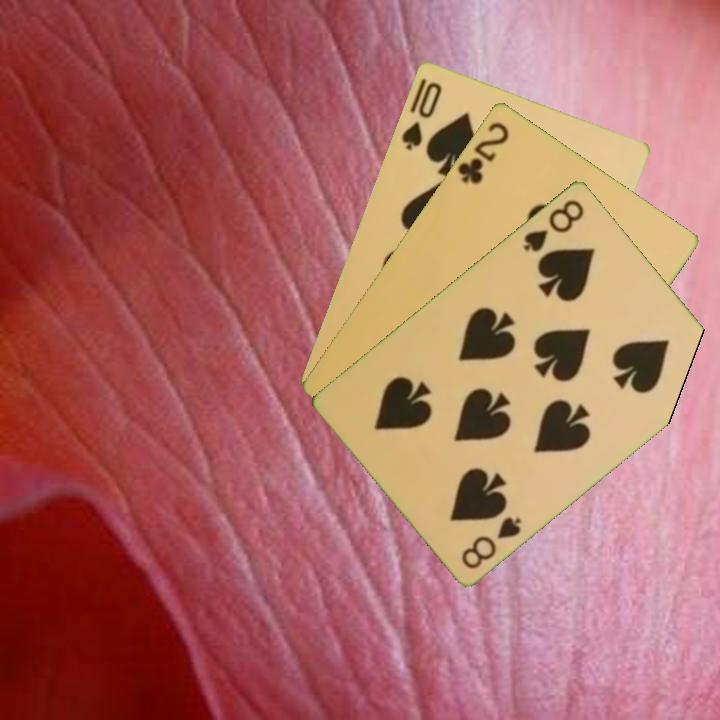10s: (397, 78, 445, 153)
2c: (454, 117, 512, 187)
8s: (519, 195, 587, 255), (458, 512, 525, 571)
